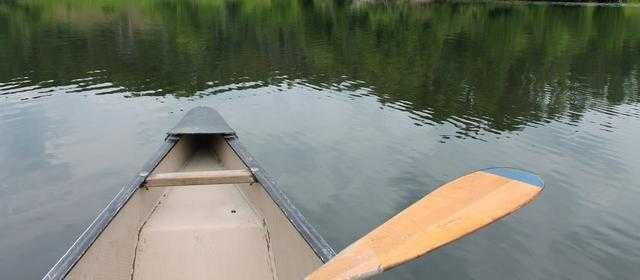kayak: (43, 105, 332, 279)
